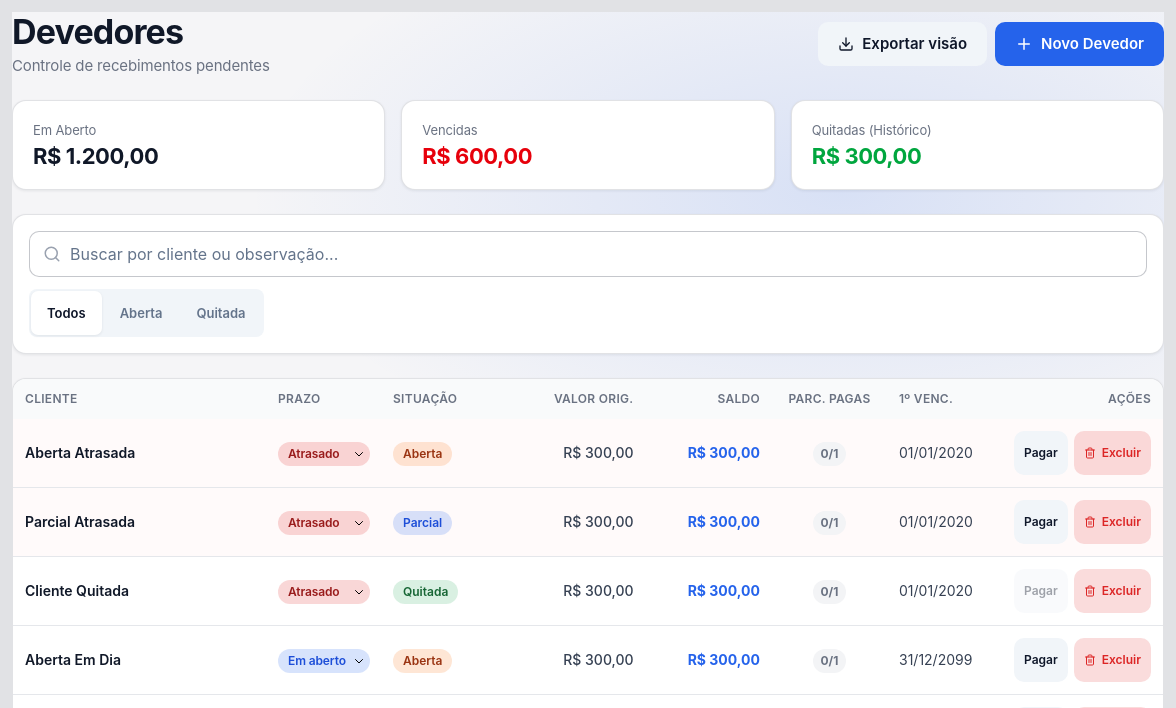
Test: Debtors page integration › filters open and partial debts by subtype (em dias and atrasada) under Aberta tab
# Click "Aberta" (shows both open and partial)
Step 1. Click the button "Aberta" → (141, 313), box [104,291,178,335]
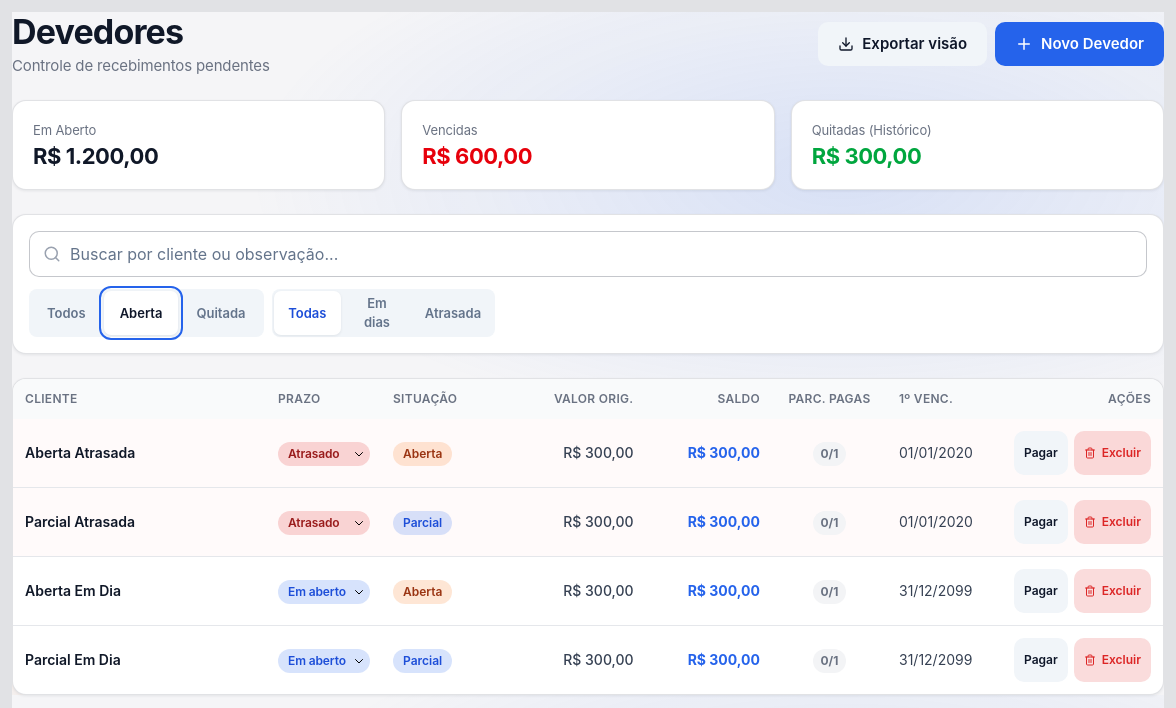
Expected: the text "Aberta Em Dia" is shown, [13,557,266,626]
Result: the text "Cliente Quitada" is gone
# Click "Em dias" subtype (shows Aberta Em Dia + Parcial Em Dia)
Step 2. Click the button "Em dias" → (377, 313), box [343,291,411,335]
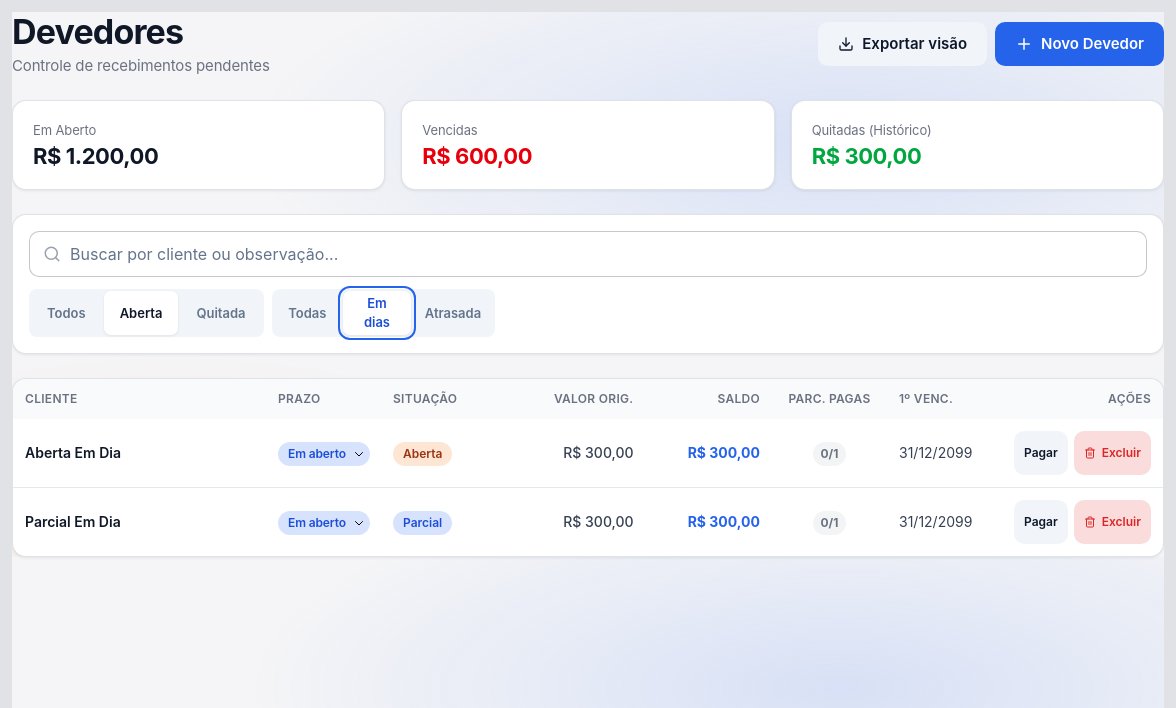
Expected: the text "Aberta Em Dia" is shown, [13,419,266,488]
Result: the text "Aberta Atrasada" is gone
Result: the text "Parcial Atrasada" is gone
# Click "Atrasada" subtype (shows Aberta Atrasada + Parcial Atrasada)
Step 3. Click the button "Atrasada" → (453, 313), box [413,291,493,335]
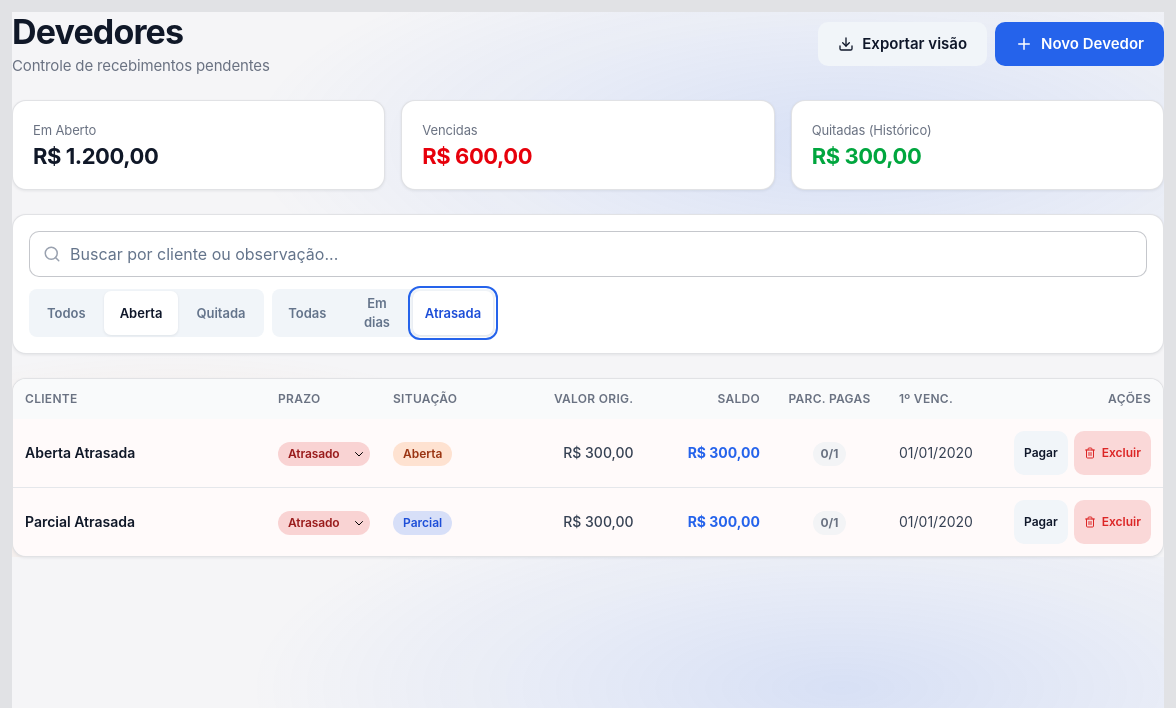
Result: the text "Aberta Em Dia" is gone
Result: the text "Parcial Em Dia" is gone
Result: the text "Aberta Atrasada" is shown at [13,419,266,488]
